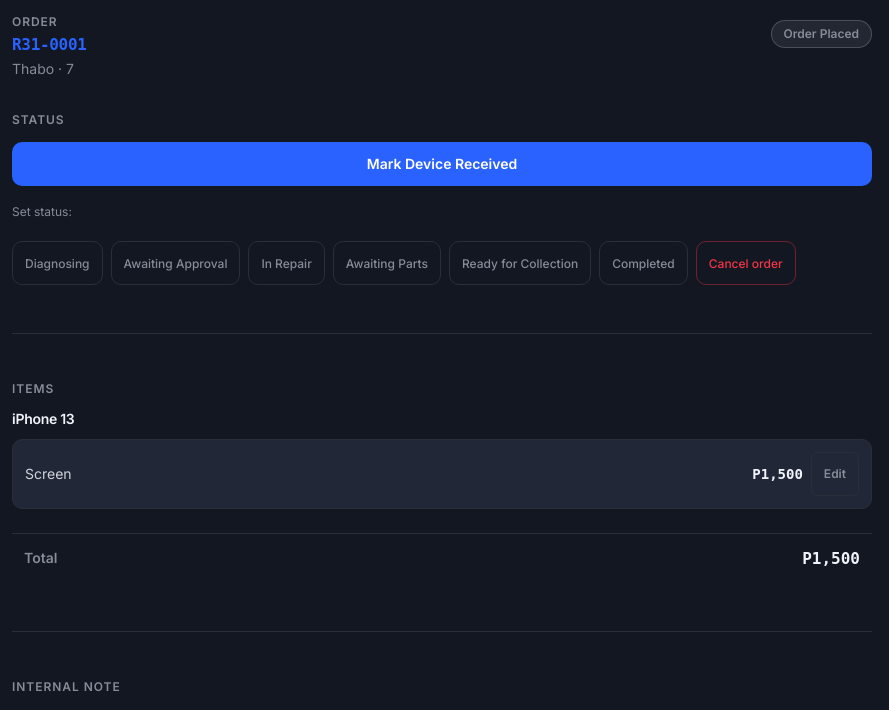
OrderManager › advances status via the primary action
This screenshot has width=889, height=710.
Click the button "Mark Device Received" at (442, 164), box top-left (12, 142), bottom-right (872, 186)
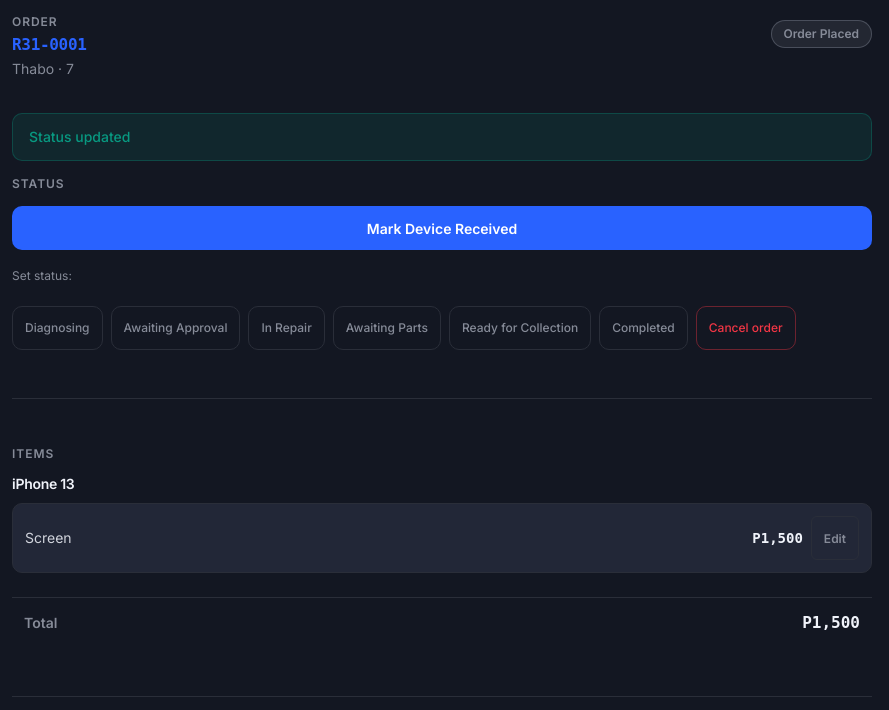
expect the text "Status updated" is shown: met, box top-left (12, 113), bottom-right (872, 161)
